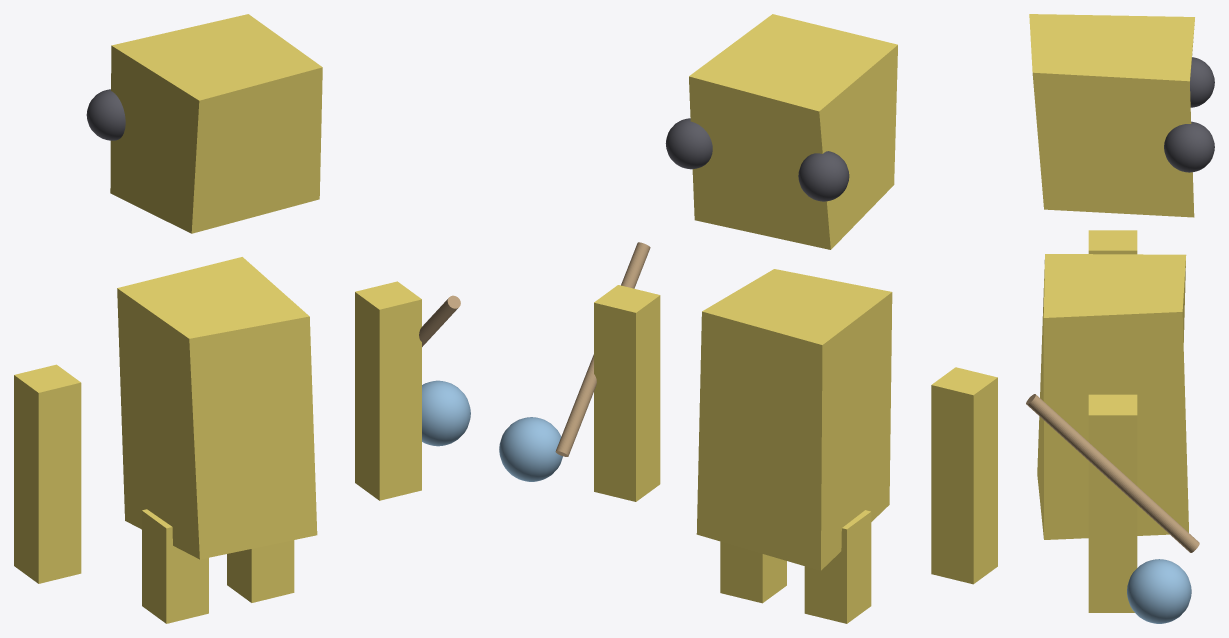
File: clay_noob_fishing.glb
The picture shows the model from 3 angles, left to right: view 1: azimuth 30°, elevation 25°; view 2: azimuth 150°, elevation 25°; view 3: azimuth 270°, elevation 25°; orthographic projection.
Visible parts, largest first — view 1: fish; view 2: fish; view 3: fish.
Boxes of the visible parts, <box> form: fish: <box>14,14,470,623</box>; fish: <box>499,14,997,623</box>; fish: <box>1026,14,1214,623</box>.
Size of the model in its own units: 2.28 by 2.57 by 0.8146.
